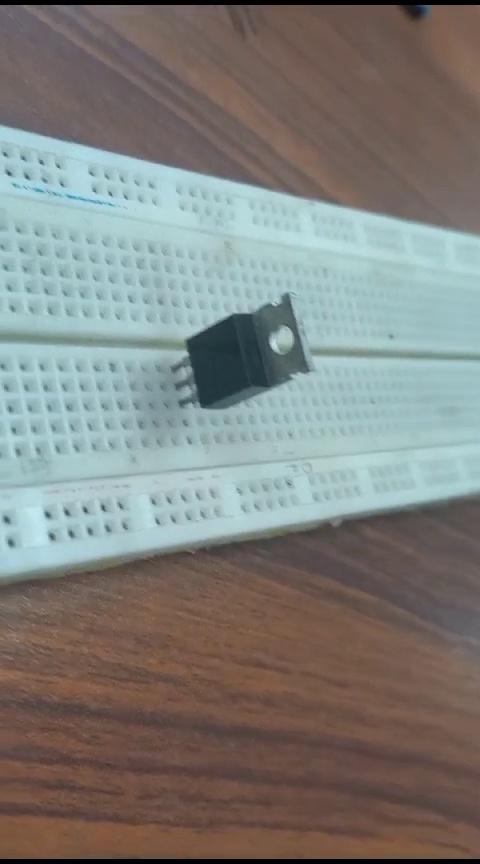voltage regulator: (149, 296, 312, 423)
